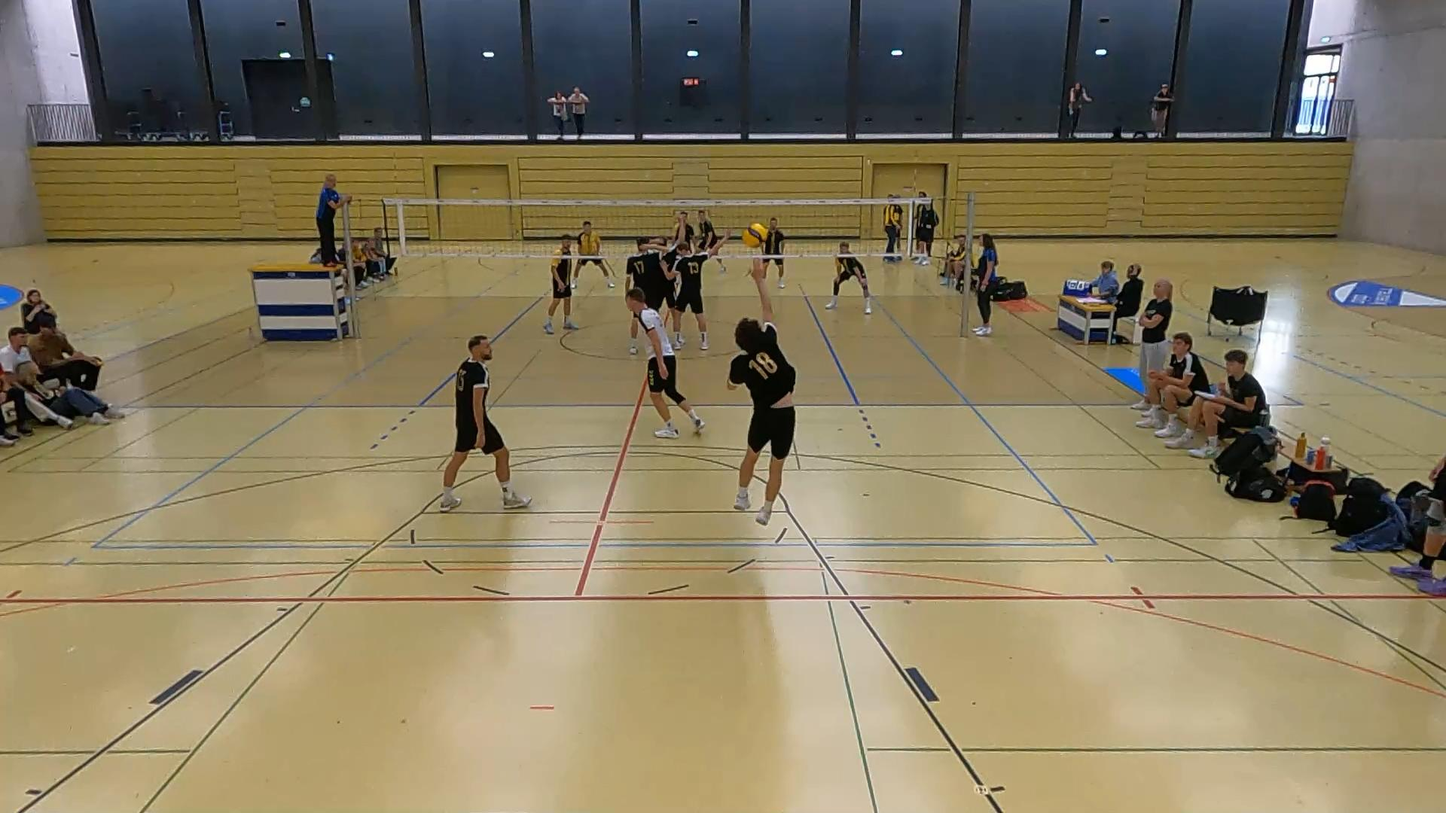Player: (439, 335, 530, 512), (627, 288, 704, 438), (665, 233, 730, 349), (825, 242, 871, 314), (654, 241, 691, 330), (544, 236, 577, 334), (625, 238, 667, 309), (572, 221, 615, 288), (762, 219, 785, 288), (698, 210, 721, 250), (672, 210, 694, 244)
Serve: (718, 251, 814, 524)
ball: (738, 218, 772, 254)
